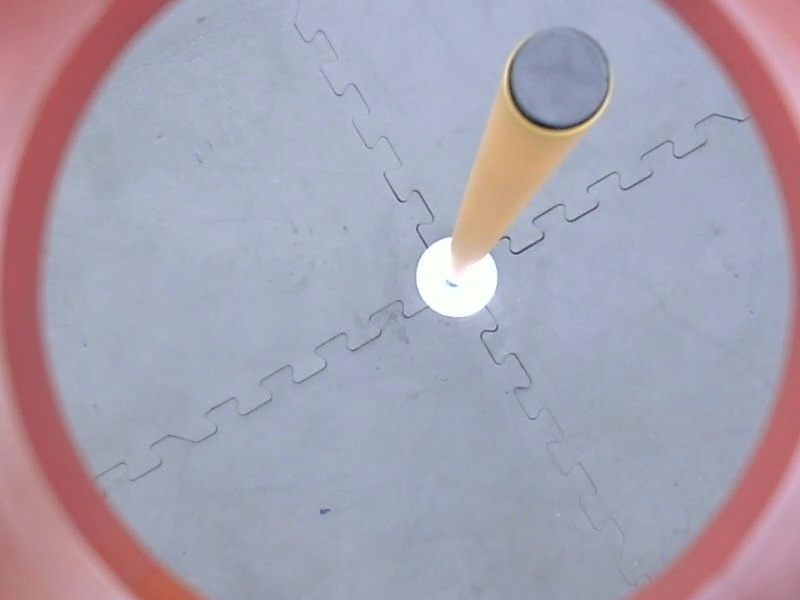tip: (496, 20, 621, 145)
